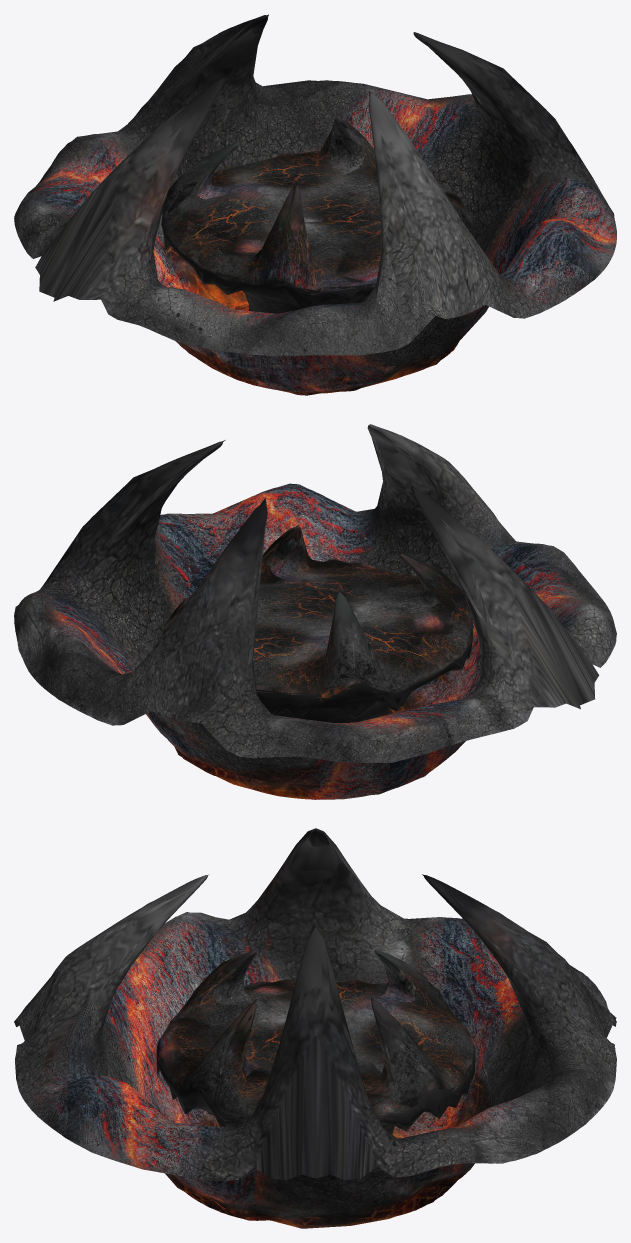
Rendered from hell.glb.
3 renders of one model, top to bottom at view 1: azimuth 30°, elevation 25°; view 2: azimuth 150°, elevation 25°; view 3: azimuth 270°, elevation 25°, orthographic. The views are drawn at different scales.
Visible parts, largest first — view 1: Object_6, Object_12, Object_9, Object_7, Object_13, Object_10; view 2: Object_6, Object_12, Object_9, Object_7, Object_13, Object_10; view 3: Object_6, Object_12, Object_9, Object_7, Object_13, Object_10.
Boxes of the visible parts, <box> form: Object_6: <box>14,15,616,394</box>; Object_12: <box>14,14,614,393</box>; Object_9: <box>14,15,616,395</box>; Object_7: <box>162,118,473,295</box>; Object_13: <box>161,118,474,290</box>; Object_10: <box>162,118,474,294</box>; Object_6: <box>14,424,615,799</box>; Object_12: <box>14,425,616,799</box>; Object_9: <box>14,424,616,799</box>; Object_7: <box>163,526,473,696</box>; Object_13: <box>163,525,472,698</box>; Object_10: <box>162,526,472,700</box>; Object_6: <box>15,829,616,1226</box>; Object_12: <box>14,829,616,1228</box>; Object_9: <box>15,828,616,1226</box>; Object_7: <box>158,950,473,1115</box>; Object_13: <box>157,948,475,1115</box>; Object_10: <box>158,950,475,1115</box>.
Size of the model in its own units: 66.62 by 35.9 by 64.1.
Materials: 2 (2 with a texture image).
